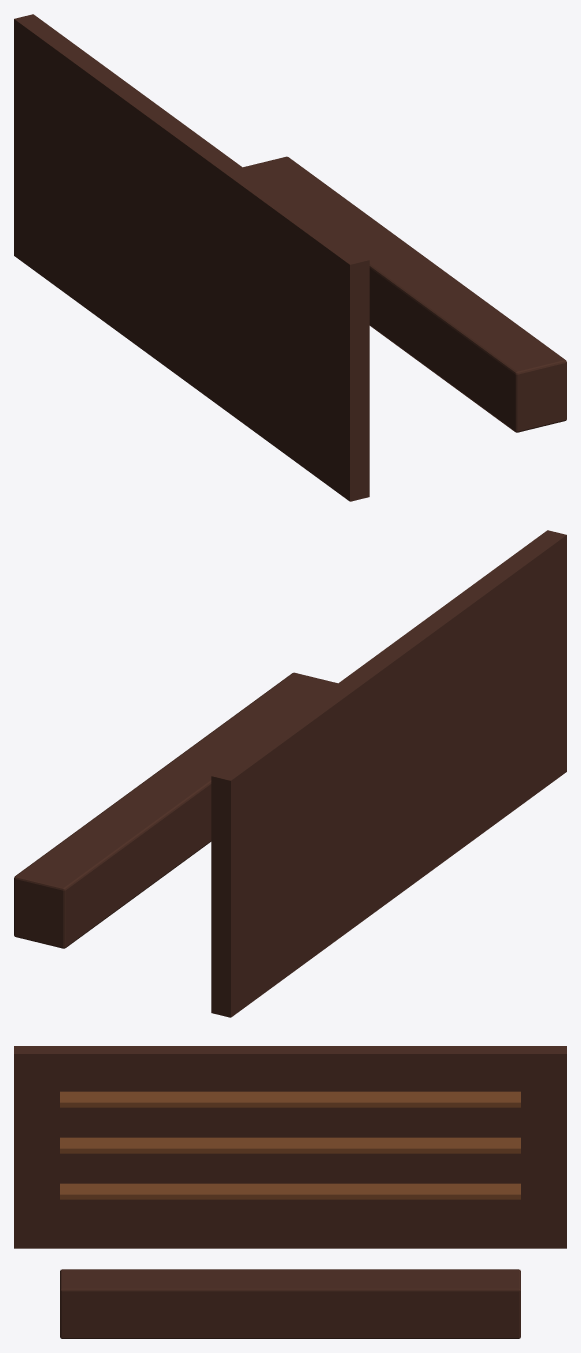
Rendered from Bar.fbx.
3 views of the same model, one above another, from view 1: azimuth 30°, elevation 25°; view 2: azimuth 150°, elevation 25°; view 3: azimuth 270°, elevation 25° (orthographic). The views are drawn at different scales.
Parts seen in each view (by area): view 1: BarCounter.001; view 2: BarCounter.001; view 3: BarCounter.001.
Part boxes in pixels (bbox=[...]): BarCounter.001: bbox=[14, 14, 566, 501]; BarCounter.001: bbox=[14, 530, 566, 1017]; BarCounter.001: bbox=[14, 1046, 566, 1338].
Bounding box in the file's own units: 1520 × 1400 × 3600.
